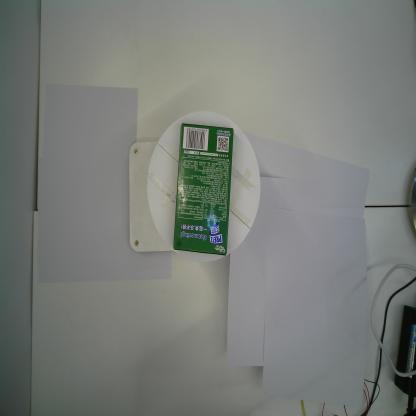Dessert: (173, 123, 234, 255)
